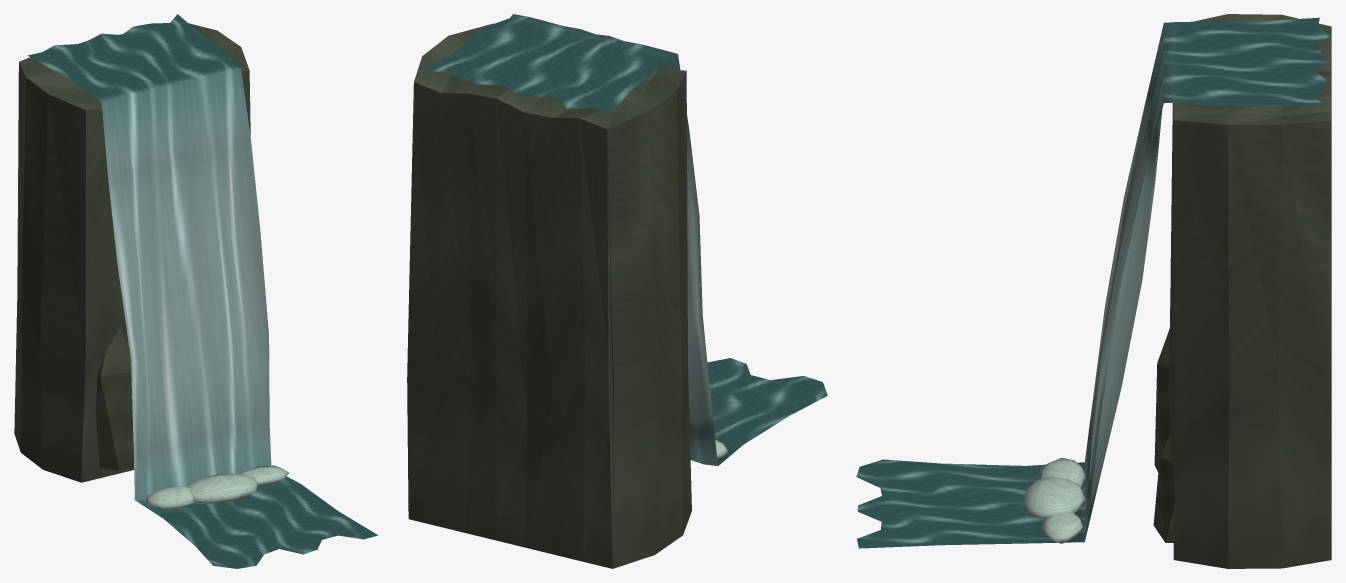
The model's file is fall-wide-lod0.glb.
The picture shows the model from 3 angles, left to right: view 1: azimuth 30°, elevation 25°; view 2: azimuth 150°, elevation 25°; view 3: azimuth 270°, elevation 25°; orthographic projection. The views are drawn at different scales.
Bounding box in the file's own units: 0.5644 × 1 × 0.9629.
Materials: 1 (1 with a texture image).
